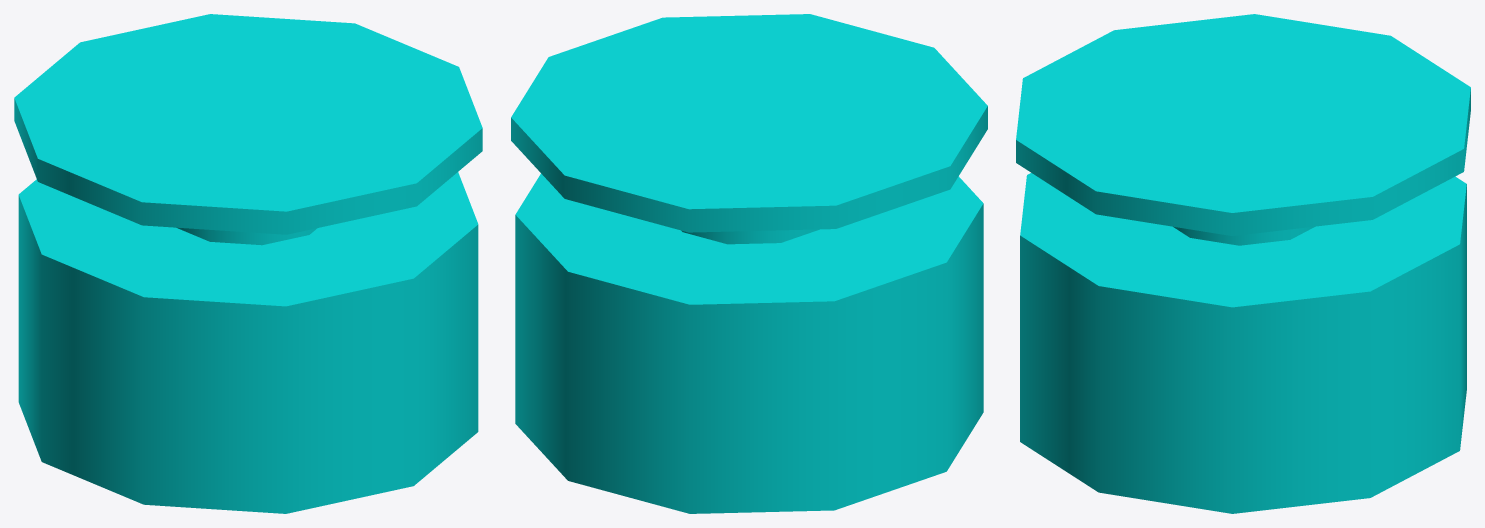
The model's file is Swivel.fbx.
The picture shows the model from 3 angles, left to right: view 1: azimuth 30°, elevation 25°; view 2: azimuth 150°, elevation 25°; view 3: azimuth 270°, elevation 25°; orthographic projection.
Visible parts, largest first — view 1: Swivel1; view 2: Swivel1; view 3: Swivel1.
Boxes of the visible parts, x1,y1,x2,y2 form: Swivel1: (14,14,482,513); Swivel1: (511,14,987,513); Swivel1: (1016,14,1470,513).
Size of the model in its own units: 19.96 by 14.15 by 19.27.
